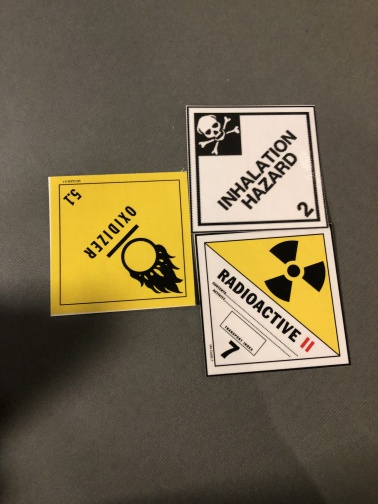InhalationHazard: (186, 104, 333, 230)
Oxidizer: (48, 172, 201, 316)
Radioactive: (195, 225, 351, 373)
